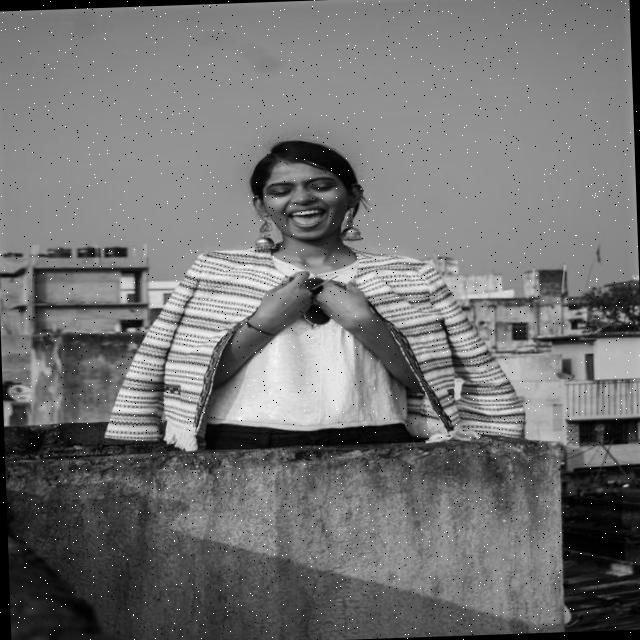Happiness: (253, 152, 356, 245)
